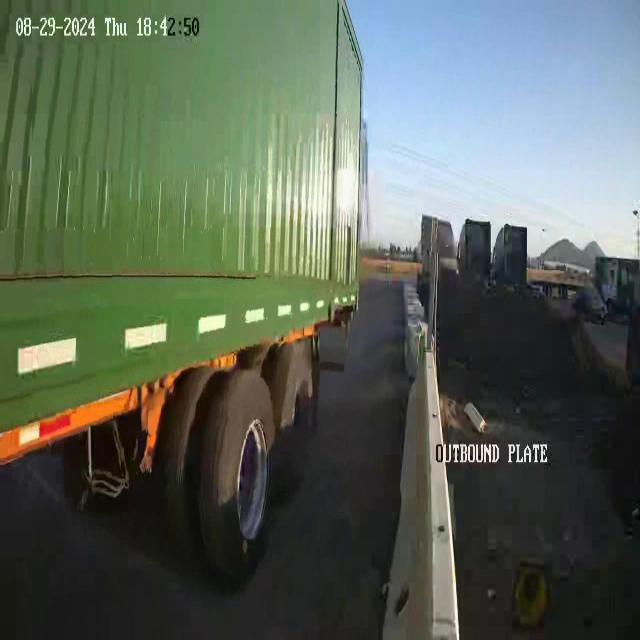CONTAINER: (0, 0, 373, 453)
